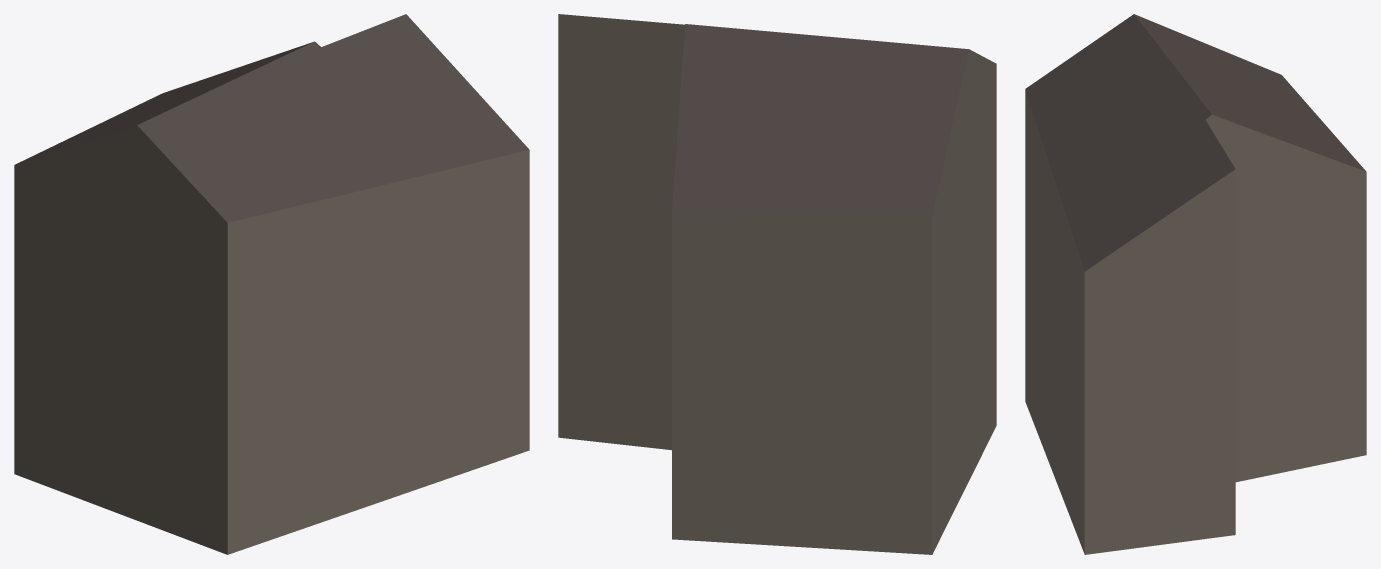
The picture shows the model from 3 angles, left to right: view 1: azimuth 30°, elevation 25°; view 2: azimuth 150°, elevation 25°; view 3: azimuth 270°, elevation 25°; orthographic projection. The views are drawn at different scales.
Parts seen in each view (by area): view 1: HP-w1513026712; view 2: HP-w1513026712; view 3: HP-w1513026712.
Part boxes in pixels (left/top/right/bottom): HP-w1513026712: left=14, top=14, right=529, bottom=554; HP-w1513026712: left=558, top=14, right=996, bottom=554; HP-w1513026712: left=1025, top=14, right=1366, bottom=554.
Bounding box in the file's own units: 8.58 × 7.89 × 6.55.
